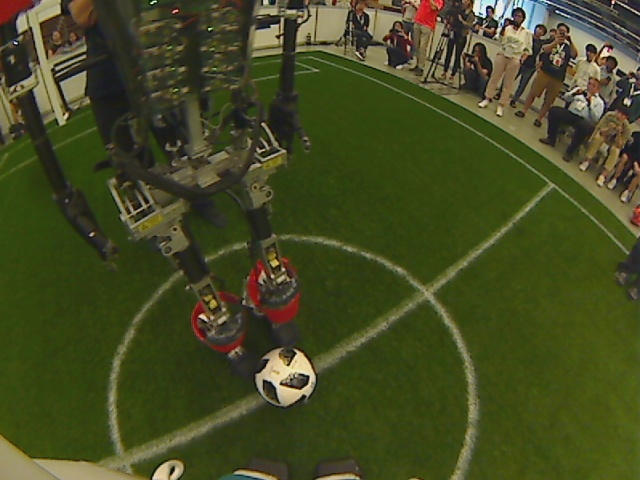ball: (250, 344, 319, 409)
